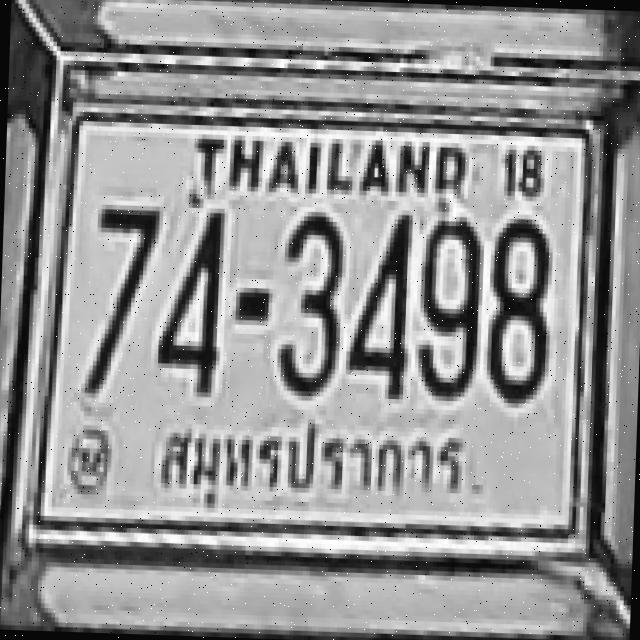3: (274, 206, 342, 392)
4: (152, 202, 220, 392), (344, 208, 408, 394)
7: (82, 202, 158, 392)
8: (482, 213, 550, 400)
9: (413, 211, 481, 397)
SamutPrakan: (151, 414, 475, 518)
